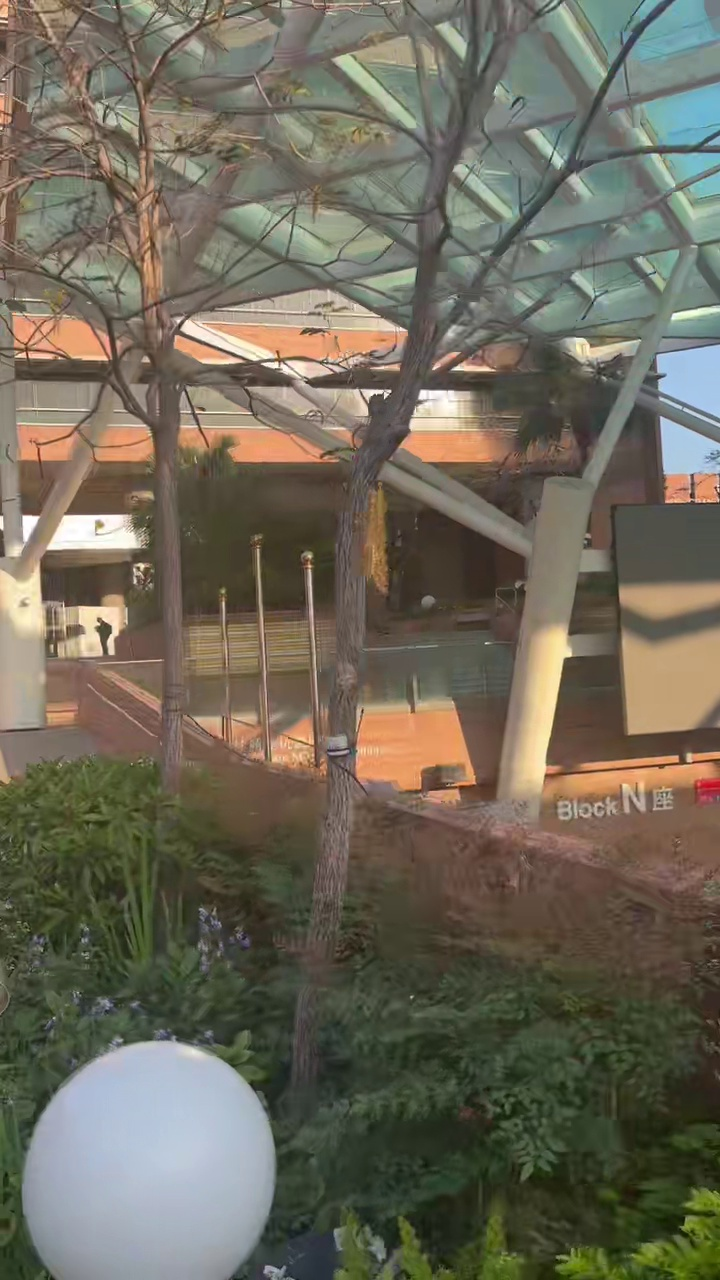Tabebuia chrysantha: (293, 0, 719, 1099)
